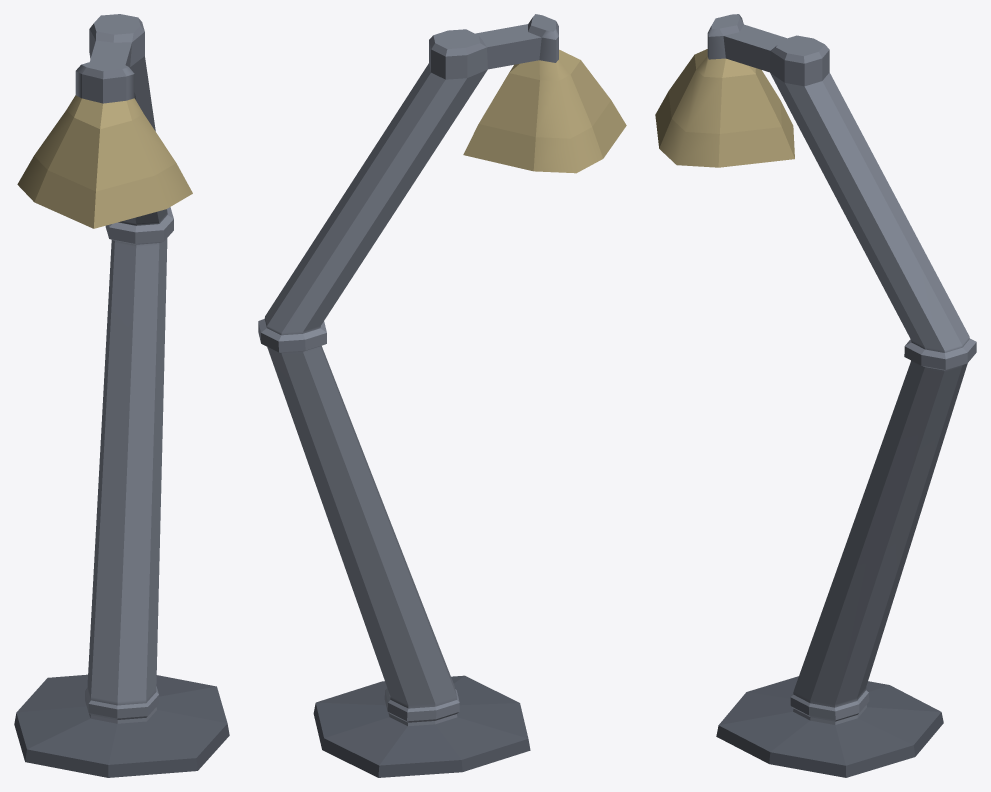
Rendered from FloorLamp.fbx.
The picture shows the model from 3 angles, left to right: view 1: azimuth 30°, elevation 25°; view 2: azimuth 150°, elevation 25°; view 3: azimuth 270°, elevation 25°; orthographic projection. The views are drawn at different scales.
Parts seen in each view (by area): view 1: FloorLamp; view 2: FloorLamp; view 3: FloorLamp.
Boxes of the visible parts, <box> form: FloorLamp: <box>14,14,229,777</box>; FloorLamp: <box>258,14,626,777</box>; FloorLamp: <box>655,14,976,777</box>.
Bounding box in the file's own units: 25.79 × 71.36 × 30.78.
